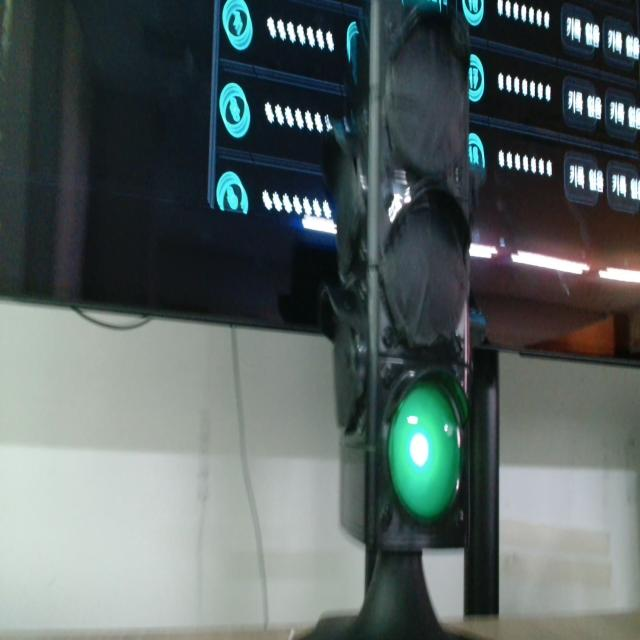green_light: (389, 380, 461, 521)
